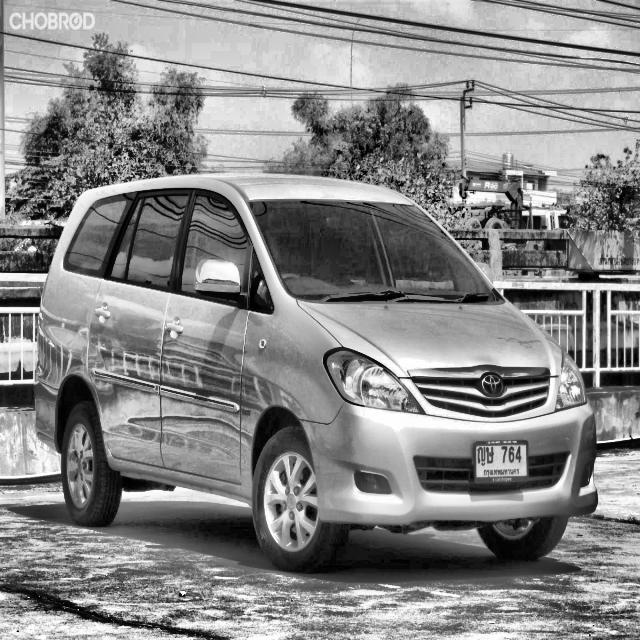license-plate: (469, 438, 531, 487)
